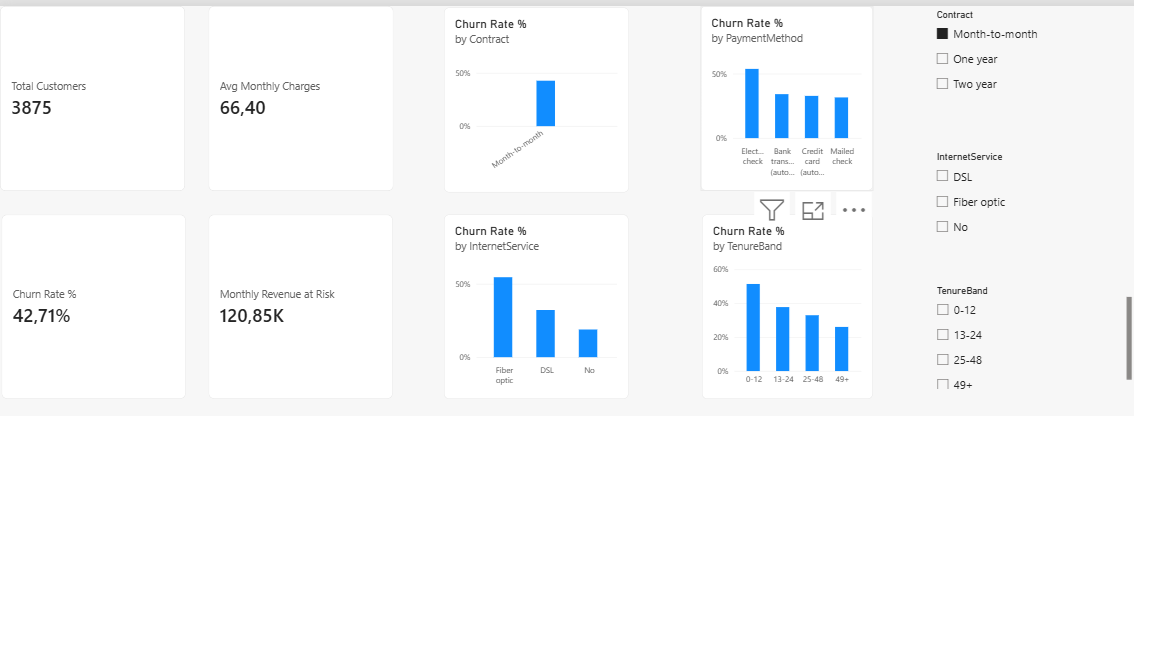

This screenshot's page, from the dashboard's own definition file:
{"tool":"powerbi","page":{"name":"Page 1","canvas":[1920,1080],"ordinal":0},"visuals":[{"type":"cardVisual","fields":{"Data":["WA_Fn-UseC_-Telco-Customer-Churn.Total Customers"]},"box":[10,0,280,280],"z":0},{"type":"cardVisual","fields":{"Data":["WA_Fn-UseC_-Telco-Customer-Churn.Churn Rate %"]},"box":[11.4,315.7,279.4,279.4],"z":2000},{"type":"cardVisual","fields":{"Data":["WA_Fn-UseC_-Telco-Customer-Churn.Avg Monthly Charges"]},"box":[324.8,0,280,280],"z":3000},{"type":"cardVisual","fields":{"Data":["WA_Fn-UseC_-Telco-Customer-Churn.Monthly Revenue at Risk"]},"box":[324.8,315.7,279.4,279.4],"z":4000},{"type":"lineClusteredColumnComboChart","fields":{"Category":["WA_Fn-UseC_-Telco-Customer-Churn.Contract"],"Y":["WA_Fn-UseC_-Telco-Customer-Churn.Churn Rate %"]},"box":[681.4,2.3,280,280],"z":5000},{"type":"lineClusteredColumnComboChart","fields":{"Category":["WA_Fn-UseC_-Telco-Customer-Churn.TenureBand"],"Y":["WA_Fn-UseC_-Telco-Customer-Churn.Churn Rate %"]},"box":[1072.1,315.7,258.9,279.4],"z":6000},{"type":"lineClusteredColumnComboChart","fields":{"Category":["WA_Fn-UseC_-Telco-Customer-Churn.InternetService"],"Y":["WA_Fn-UseC_-Telco-Customer-Churn.Churn Rate %"]},"box":[681.4,315.7,279.4,279.4],"z":7000},{"type":"lineClusteredColumnComboChart","fields":{"Category":["WA_Fn-UseC_-Telco-Customer-Churn.PaymentMethod"],"Y":["WA_Fn-UseC_-Telco-Customer-Churn.Churn Rate %"]},"box":[1069.8,0,261.2,279.4],"z":8000},{"type":"slicer","fields":{"Values":["WA_Fn-UseC_-Telco-Customer-Churn.Contract"]},"box":[1419.6,4.5,268,277.1],"z":9000},{"type":"slicer","fields":{"Values":["WA_Fn-UseC_-Telco-Customer-Churn.InternetService"]},"box":[1419.6,220.3,268,279.4],"z":10000},{"type":"slicer","fields":{"Values":["WA_Fn-UseC_-Telco-Customer-Churn.TenureBand"]},"box":[1419.6,422.5,303.3,155.9],"z":11000}]}

Visuals, with their boxes on the page's 1920x1080 design canvas (x1, y1, x2, y2). These are canvas units, not pixel positions in the 1152x648 screenshot, which may show the page scaled, cropped or inside an application window:
cardVisual - WA_Fn-UseC_-Telco-Customer-Churn.Total Customers: <region>10, 0, 290, 280</region>
cardVisual - WA_Fn-UseC_-Telco-Customer-Churn.Churn Rate %: <region>11, 316, 291, 595</region>
cardVisual - WA_Fn-UseC_-Telco-Customer-Churn.Avg Monthly Charges: <region>325, 0, 605, 280</region>
cardVisual - WA_Fn-UseC_-Telco-Customer-Churn.Monthly Revenue at Risk: <region>325, 316, 604, 595</region>
lineClusteredColumnComboChart - WA_Fn-UseC_-Telco-Customer-Churn.Contract x WA_Fn-UseC_-Telco-Customer-Churn.Churn Rate %: <region>681, 2, 961, 282</region>
lineClusteredColumnComboChart - WA_Fn-UseC_-Telco-Customer-Churn.TenureBand x WA_Fn-UseC_-Telco-Customer-Churn.Churn Rate %: <region>1072, 316, 1331, 595</region>
lineClusteredColumnComboChart - WA_Fn-UseC_-Telco-Customer-Churn.InternetService x WA_Fn-UseC_-Telco-Customer-Churn.Churn Rate %: <region>681, 316, 961, 595</region>
lineClusteredColumnComboChart - WA_Fn-UseC_-Telco-Customer-Churn.PaymentMethod x WA_Fn-UseC_-Telco-Customer-Churn.Churn Rate %: <region>1070, 0, 1331, 279</region>
slicer - WA_Fn-UseC_-Telco-Customer-Churn.Contract: <region>1420, 4, 1688, 282</region>
slicer - WA_Fn-UseC_-Telco-Customer-Churn.InternetService: <region>1420, 220, 1688, 500</region>
slicer - WA_Fn-UseC_-Telco-Customer-Churn.TenureBand: <region>1420, 422, 1723, 578</region>
